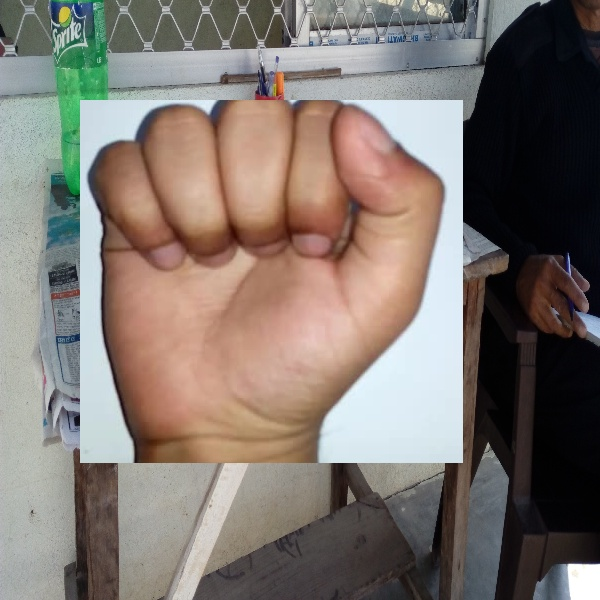F: (80, 100, 463, 463)
